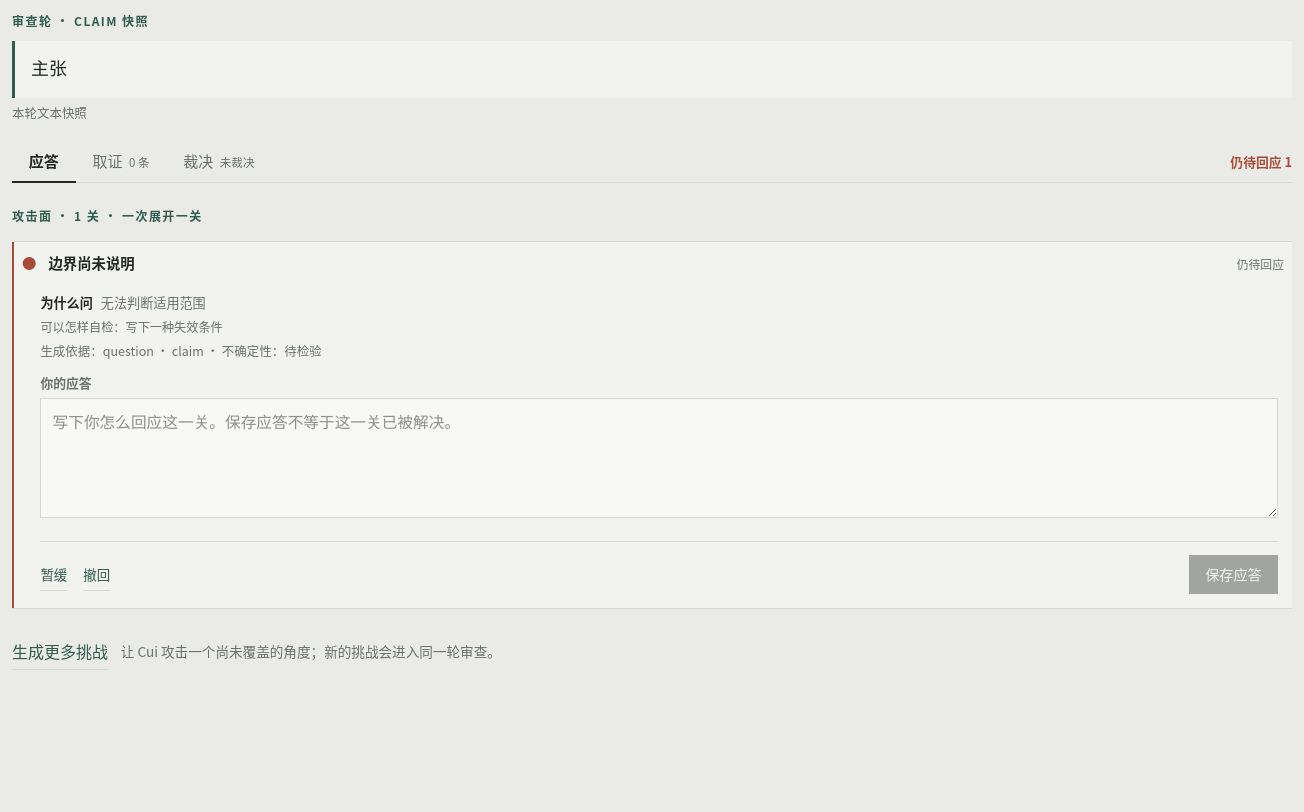
ReviewRoundDesk review lifecycle › withdraws a challenge with a reason and closes it
This screenshot has width=1304, height=812.
Expected: the text "边界尚未说明" is shown, top-left (48, 252), bottom-right (135, 273)
Click the button "撤回": point(97, 575) top-left (83, 558), bottom-right (110, 591)
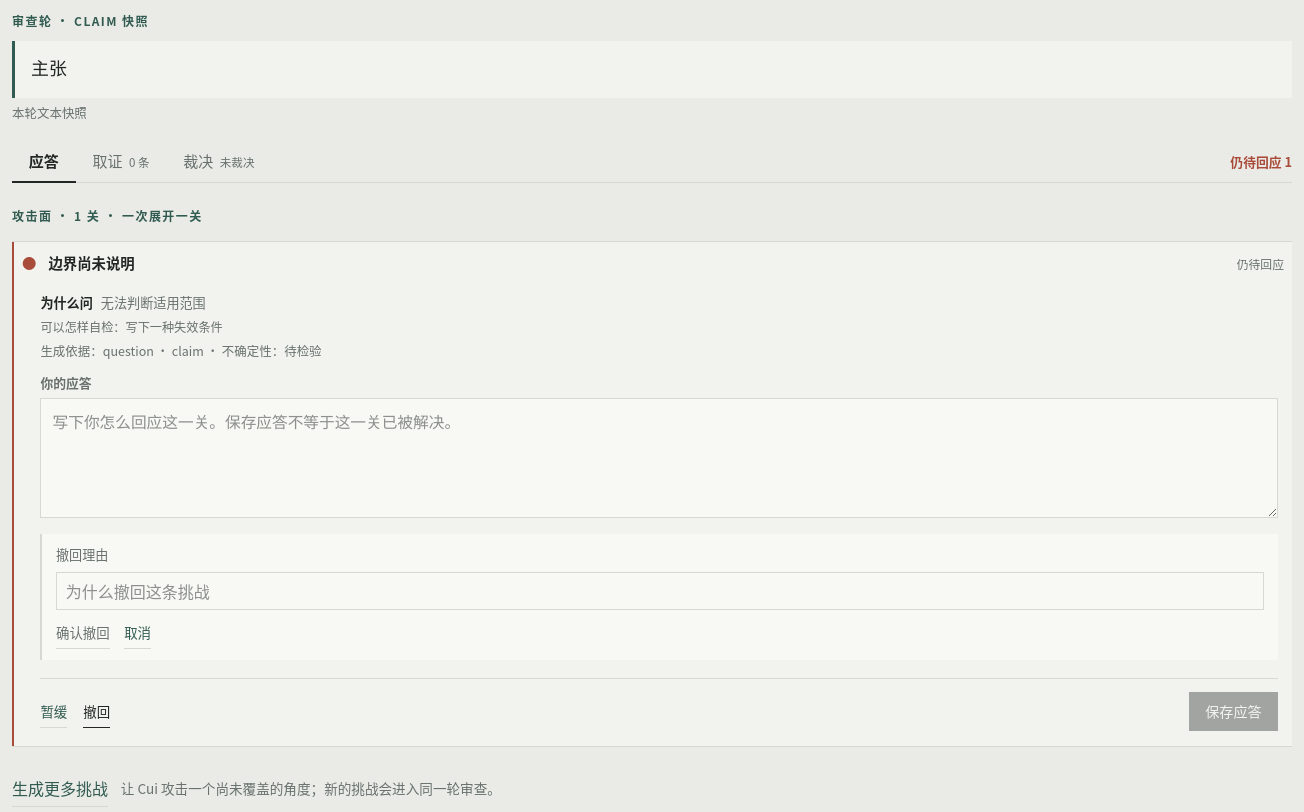
In the field labelled "撤回理由": point(660, 591) top-left (56, 572), bottom-right (1264, 610), type "no longer relevant"
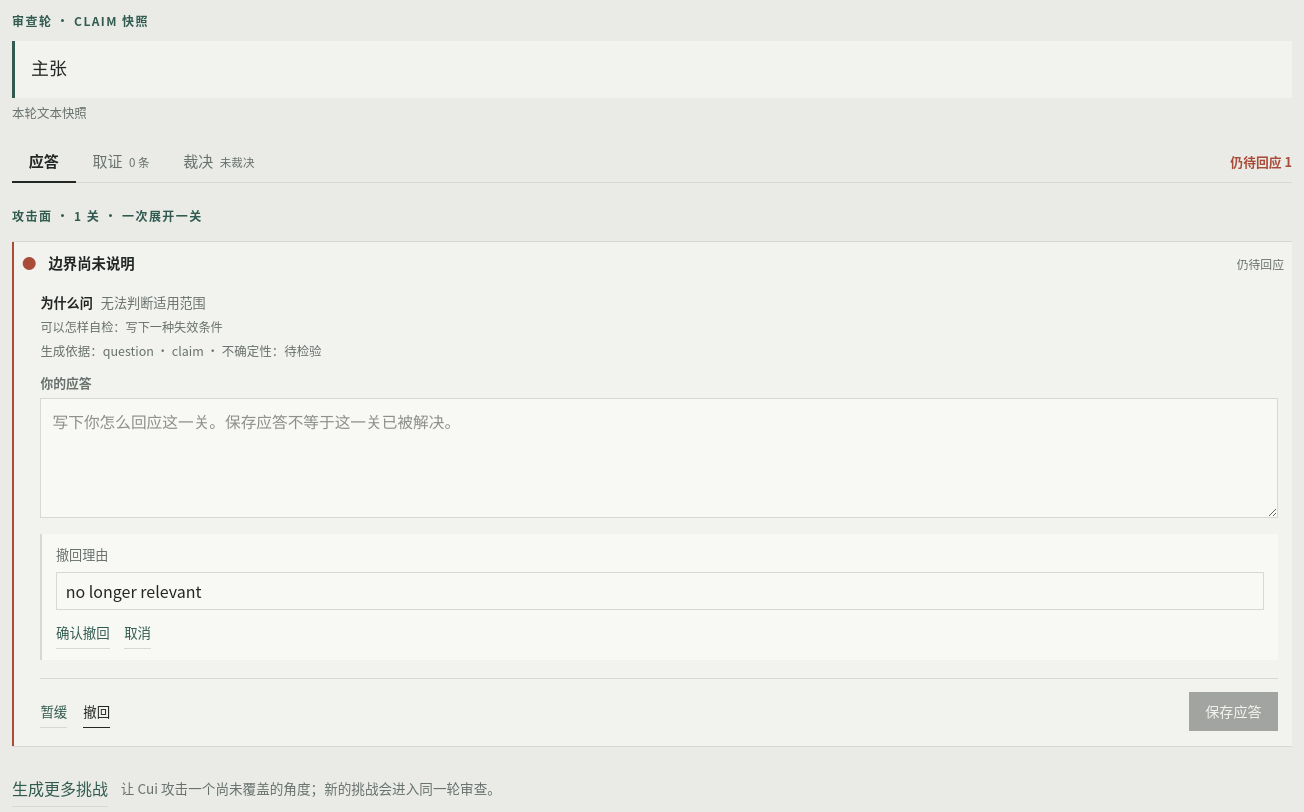
Click the button "确认撤回": point(83, 633) top-left (56, 617), bottom-right (110, 649)
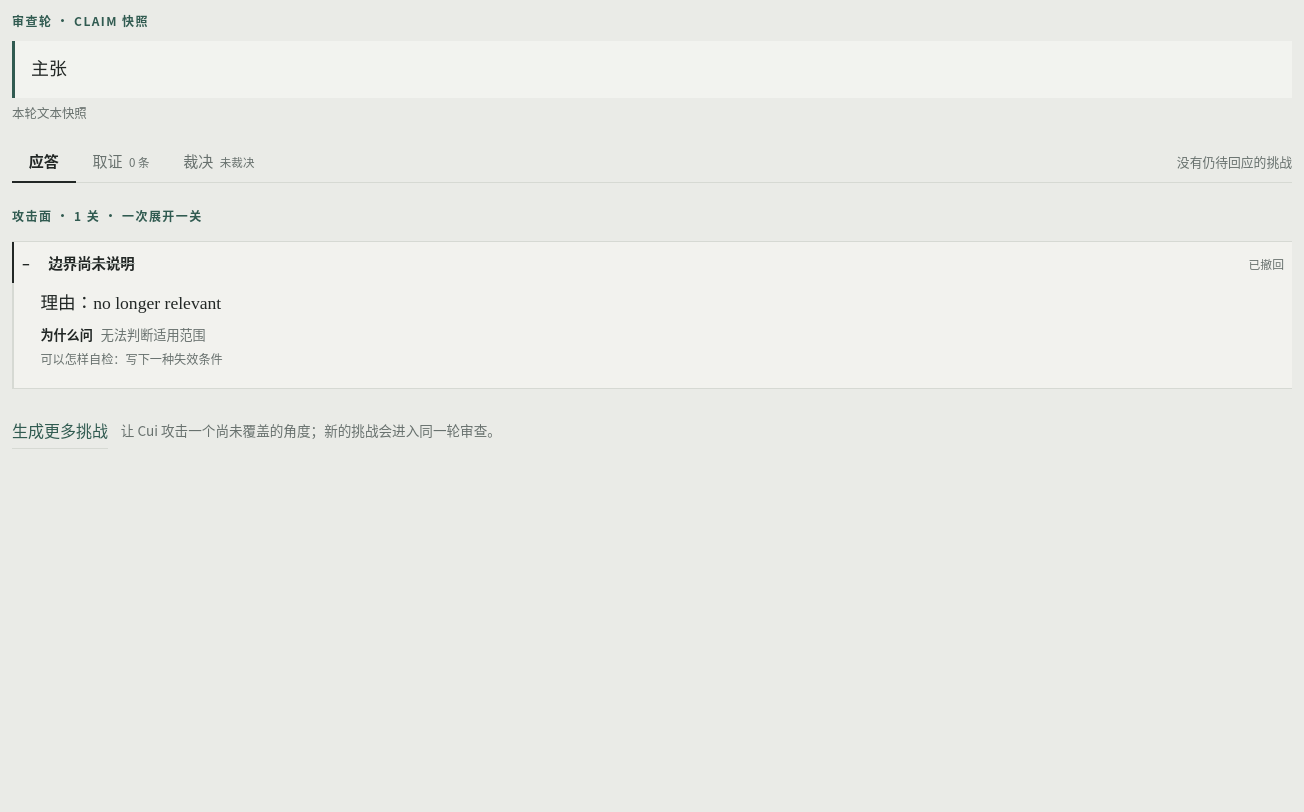
Expected: the text "理由：no longer relevant" is shown, top-left (40, 293), bottom-right (221, 313)
